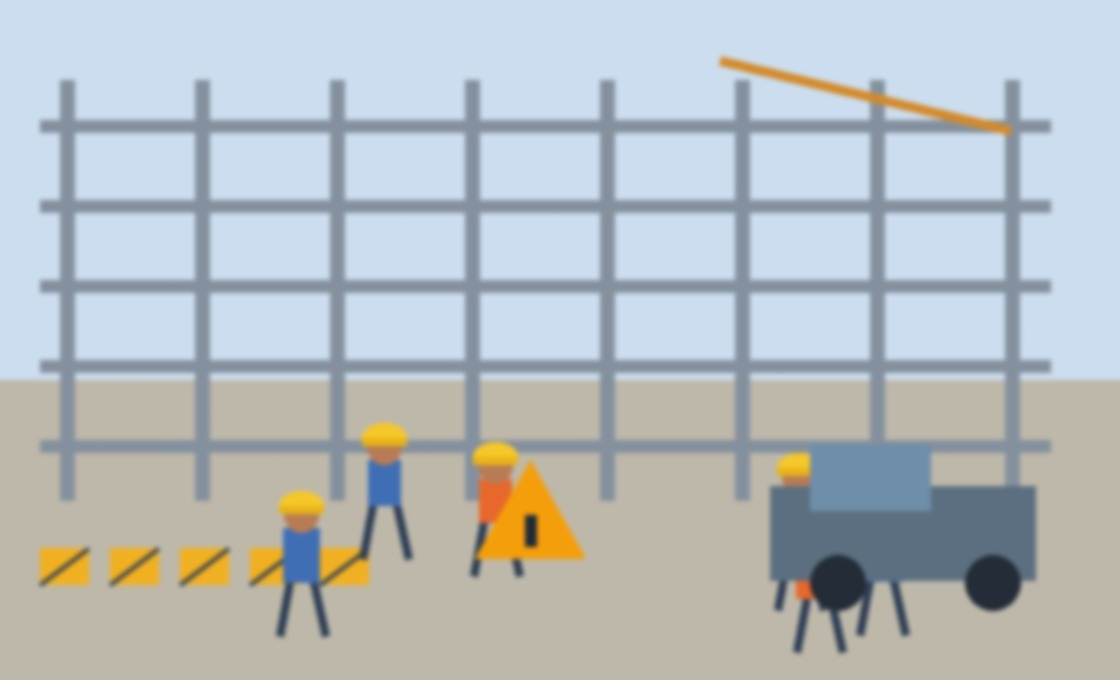helmet: (244, 350, 286, 384)
person: (229, 360, 291, 530)
vehicle: (770, 445, 1035, 595)
vest: (219, 395, 291, 483)
